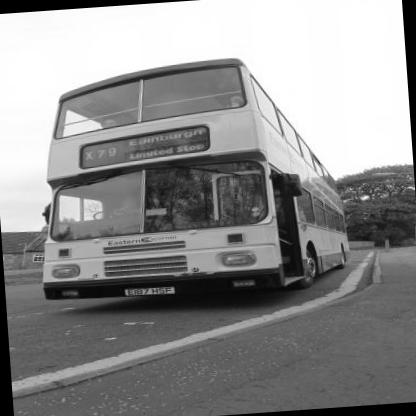bus: (27, 47, 367, 322)
